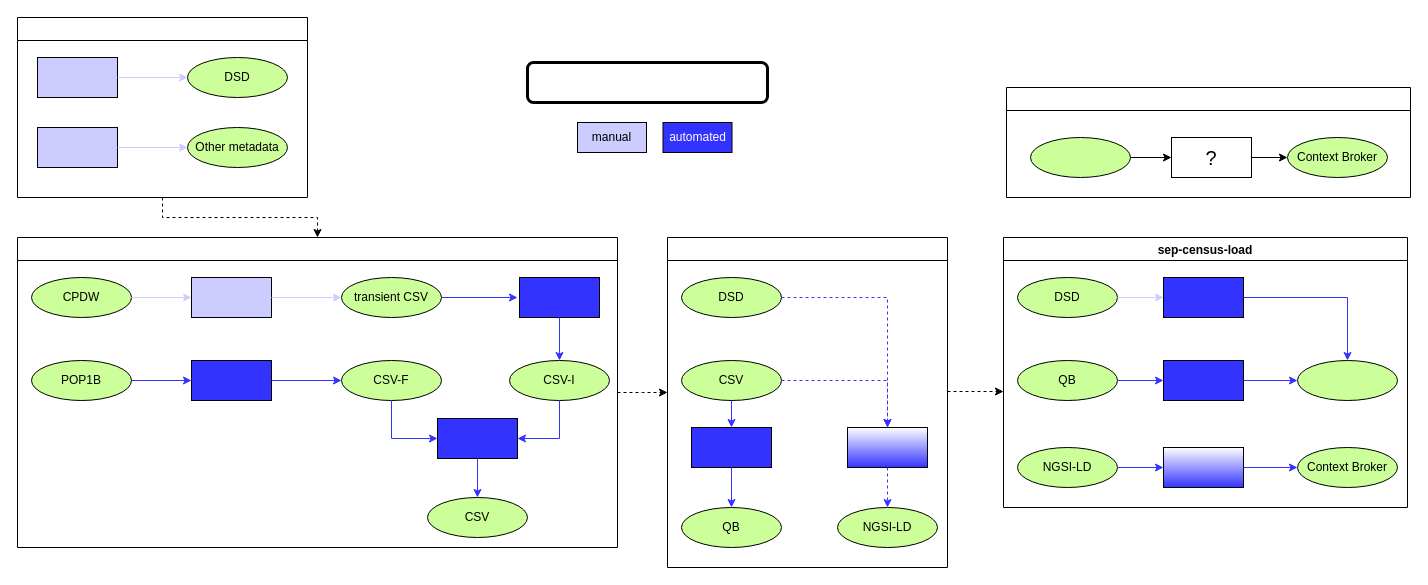
The diagram is 1428 pixels wide and 585 high, and some of its shapes have lost their labels. Here are the shapes that lost their labels. From the top down, the box of each, then its label:
(526, 60, 768, 104): SEP ETL Process
(16, 16, 308, 198): sep-census-metadata-extract
(1030, 136, 1130, 178): EEA
(1006, 86, 1410, 198): sep-air-etl
(16, 236, 618, 548): sep-census-data-extract
(1296, 360, 1398, 400): GraphDB
(666, 236, 948, 568): sep-census-transform
